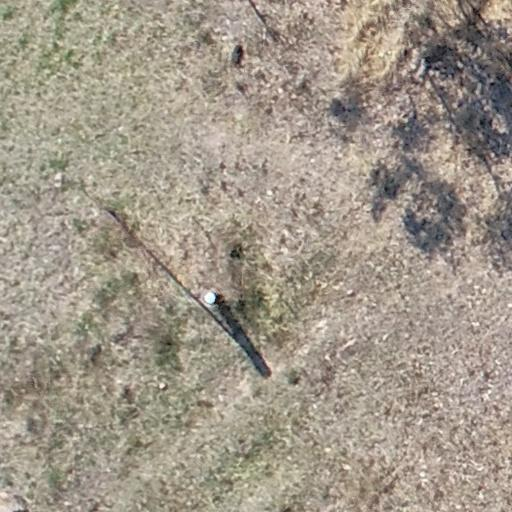stone: (158, 380, 169, 393)
